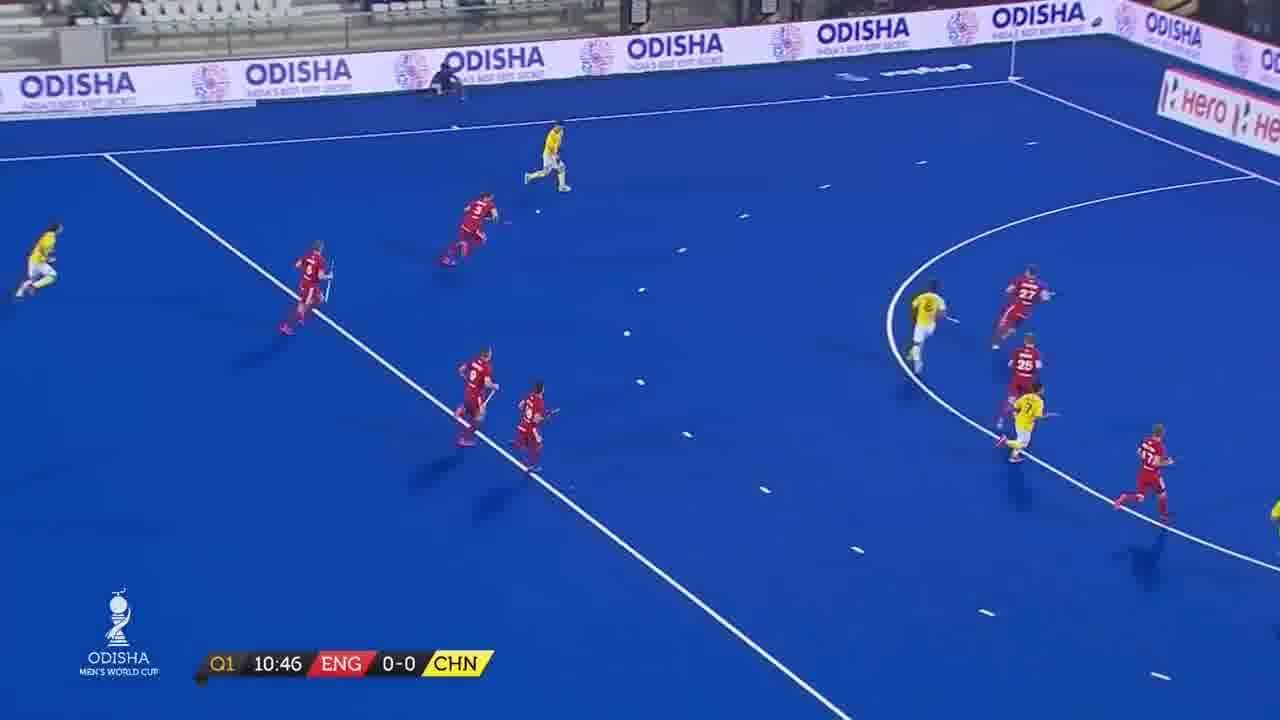ball: (532, 206, 545, 220)
